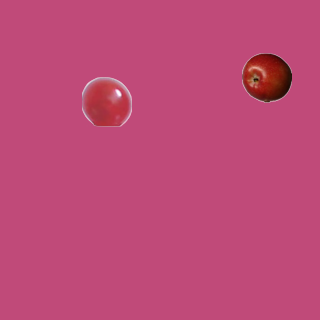Apple Braeburn: (241, 52, 291, 102)
Redcurrant: (81, 76, 131, 126)
